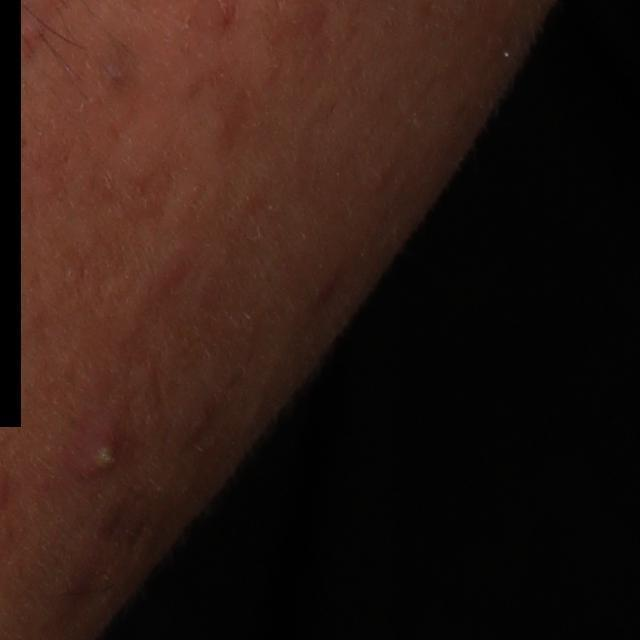pustule: (63, 417, 134, 490)
